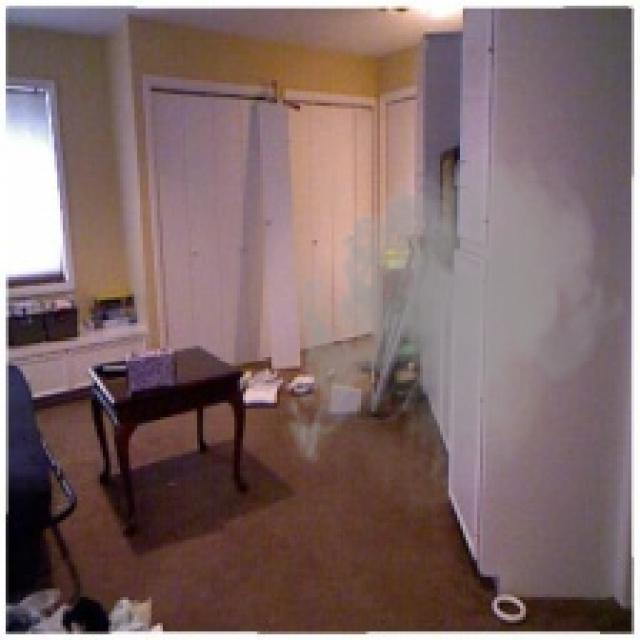Smoke: (277, 132, 629, 528)
